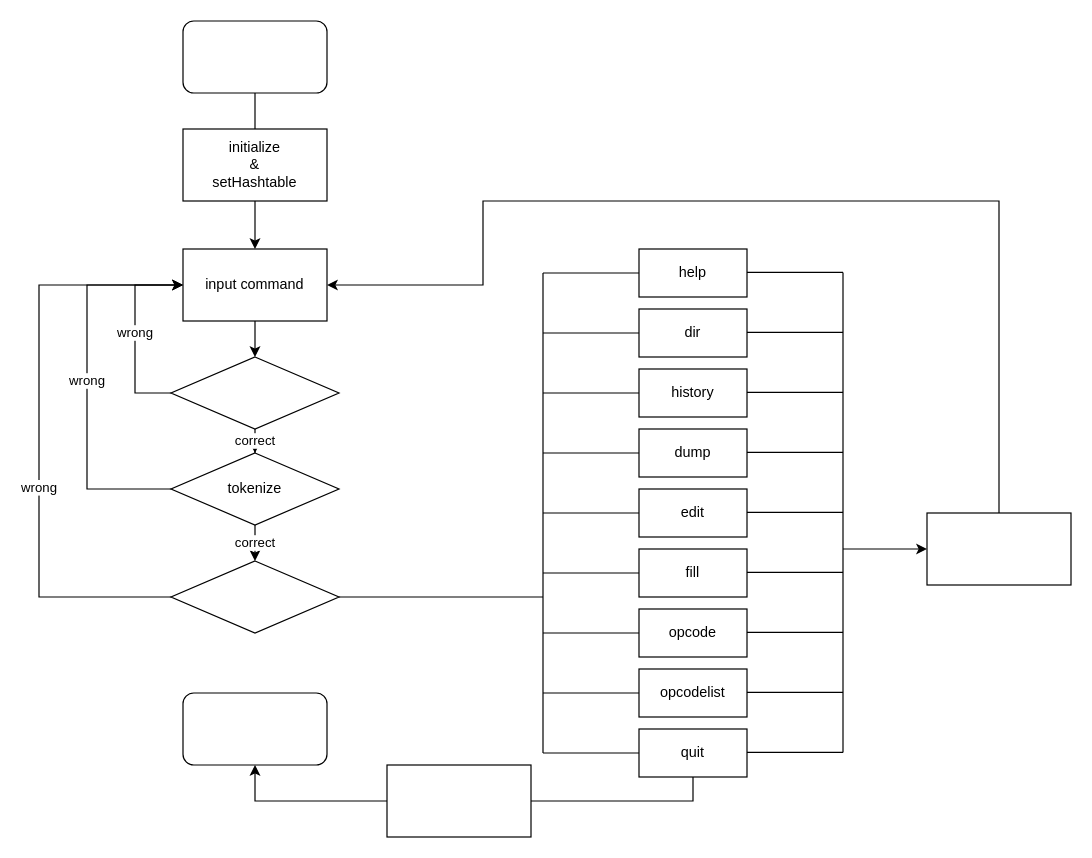
Some shapes in this 1092 by 858 pixel diagram are drawn without their labels. Here are the shapes that lost their labels. From the top down, the centre of each, then its label:
At (254,56): "start".
At (254,392): "CheckWrongInput".
At (998,548): "addHistory".
At (254,596): "CMD_classification".
At (254,728): "exit program".
At (458,800): "freeHistory freeHashtable".
